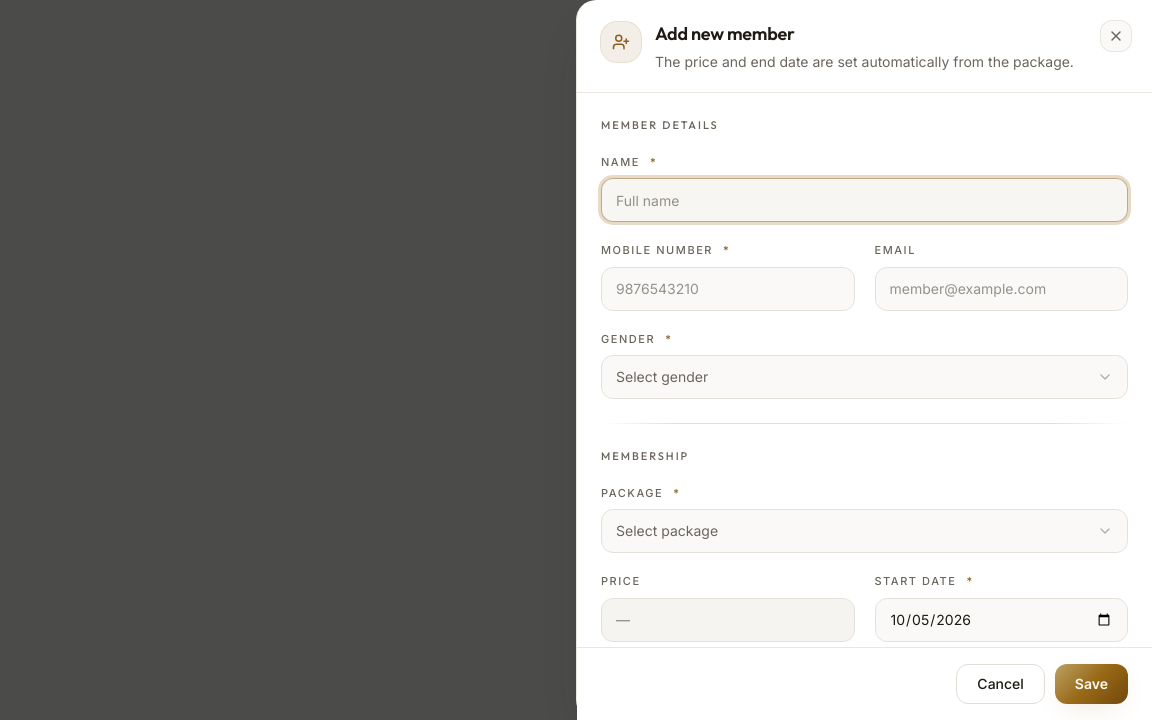
it: MemberFormDrawer — add › fills the price automatically when a package is chosen (SRS §2.3.1)
The image size is (1152, 720).
Click the dropdown labelled "Select package".
click(667, 530)  # box top-left (601, 509), bottom-right (1128, 553)
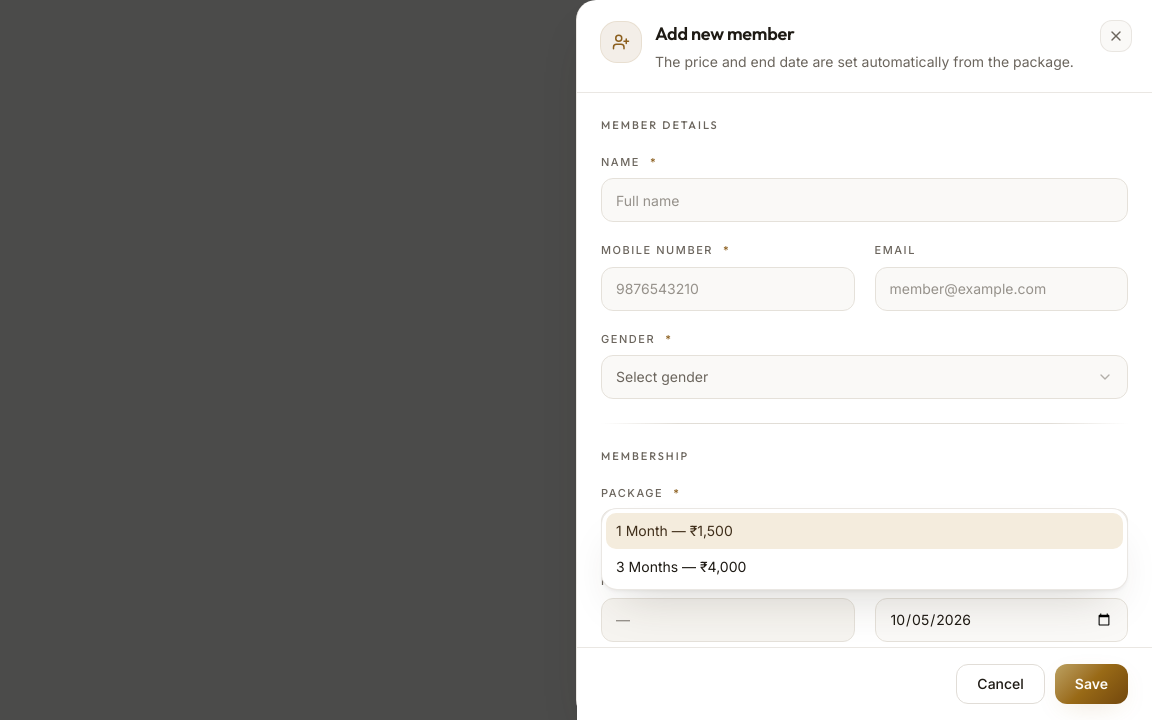
Click the option "3 Months — ₹4,000".
click(681, 566)  # box top-left (616, 558), bottom-right (746, 575)
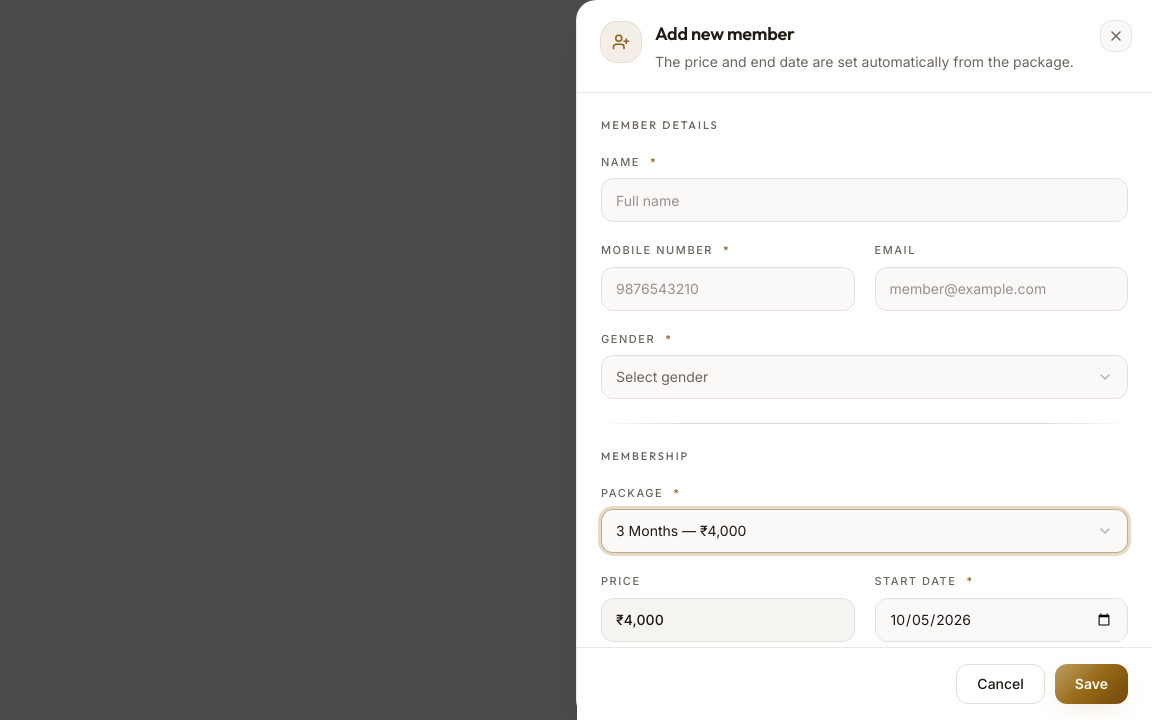
Check: the field labelled "Price" holds "₹4,000", box top-left (601, 598), bottom-right (854, 642)
